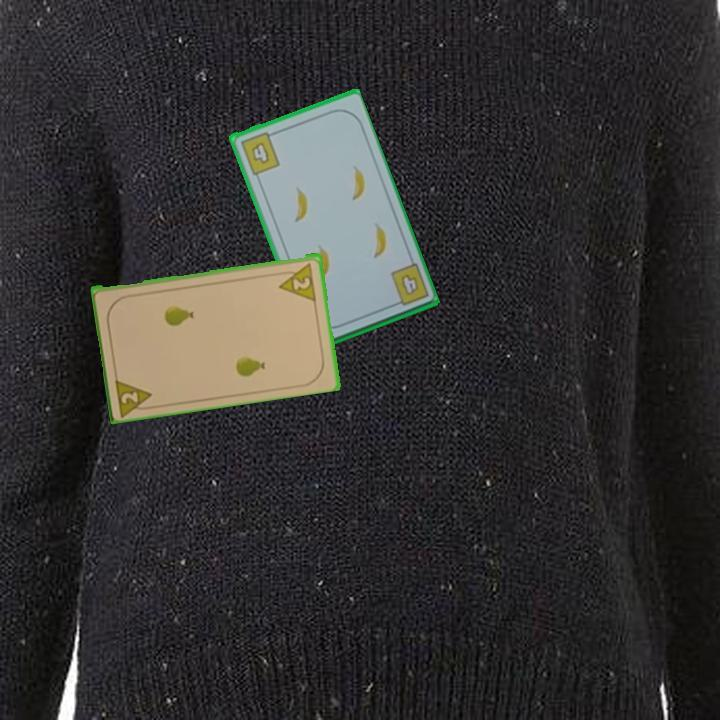2p: (112, 373, 158, 418), (274, 259, 319, 303)
4b: (236, 128, 282, 177), (387, 260, 432, 310)
